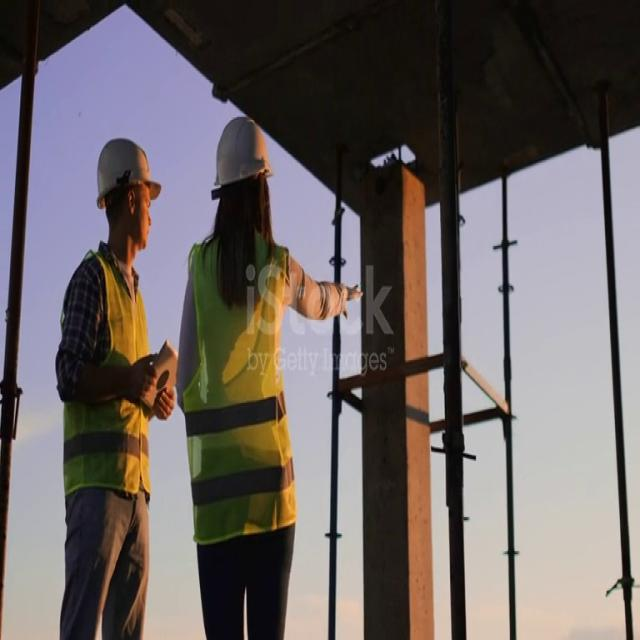capacete: (90, 132, 168, 210), (206, 112, 277, 196)
